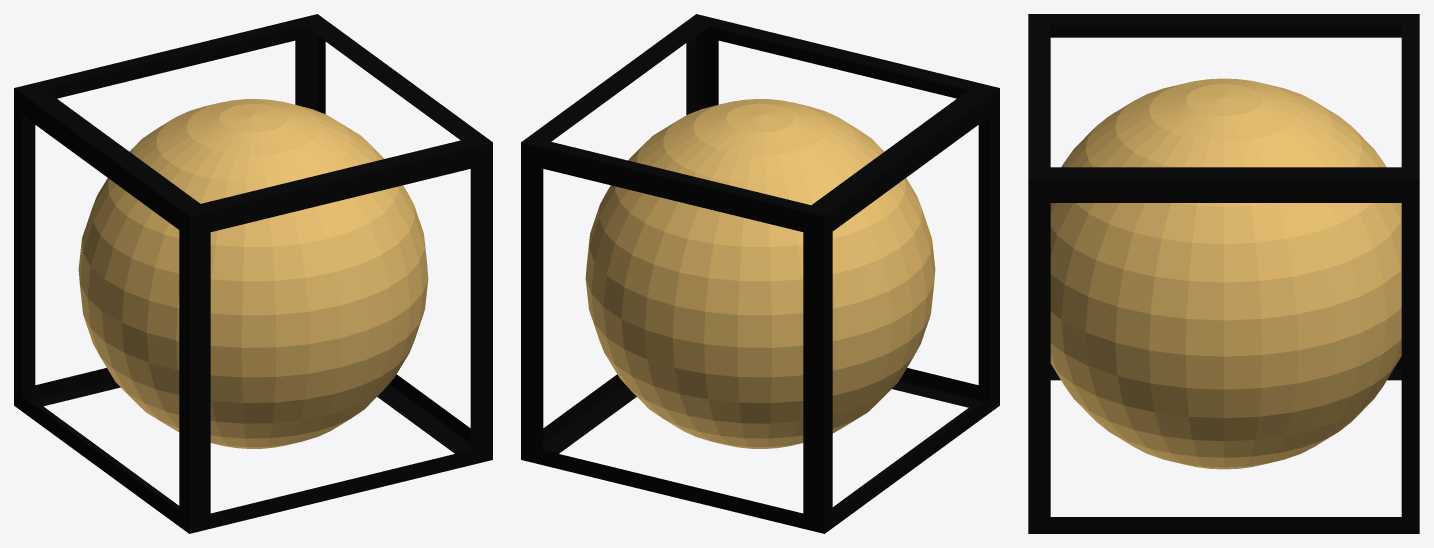
File: rippou.gltf
3 renders of one model, left to right at view 1: azimuth 30°, elevation 25°; view 2: azimuth 150°, elevation 25°; view 3: azimuth 270°, elevation 25°, orthographic. The views are drawn at different scales.
Visible parts, largest first — view 1: Sphere, Cube; view 2: Sphere, Cube; view 3: Sphere, Cube.
Part boxes in pixels (x1,y1,x2,y2): Sphere: (78,99,428,448); Cube: (14,14,492,533); Sphere: (585,99,935,448); Cube: (521,14,999,533); Sphere: (1050,78,1401,469); Cube: (1028,14,1419,533).
Bounding box in the file's own units: 6.55 × 6.55 × 6.55.
